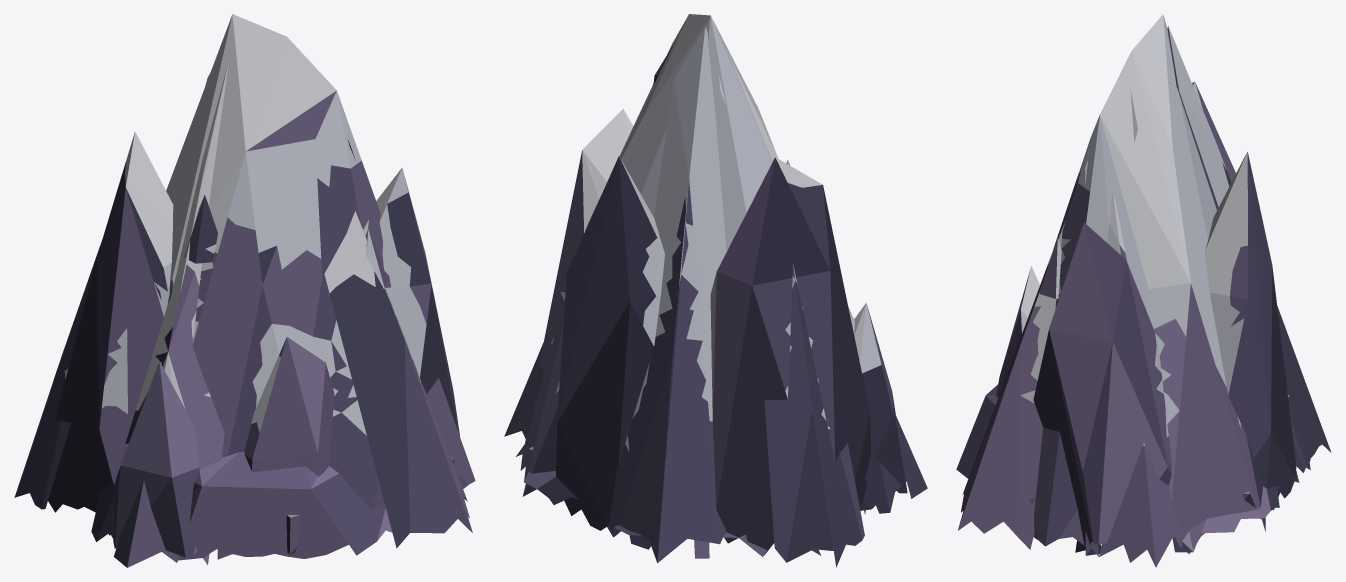
The model's file is mtn_peak_a.glb.
The picture shows the model from 3 angles, left to right: view 1: azimuth 30°, elevation 25°; view 2: azimuth 150°, elevation 25°; view 3: azimuth 270°, elevation 25°; orthographic projection. The views are drawn at different scales.
Parts seen in each view (by area): view 1: mtn_peak_a; view 2: mtn_peak_a; view 3: mtn_peak_a.
Boxes of the visible parts, <box> form: mtn_peak_a: <box>14,14,475,567</box>; mtn_peak_a: <box>504,14,927,567</box>; mtn_peak_a: <box>956,14,1331,567</box>.
Size of the model in its own units: 80.21 by 96.65 by 71.17.
